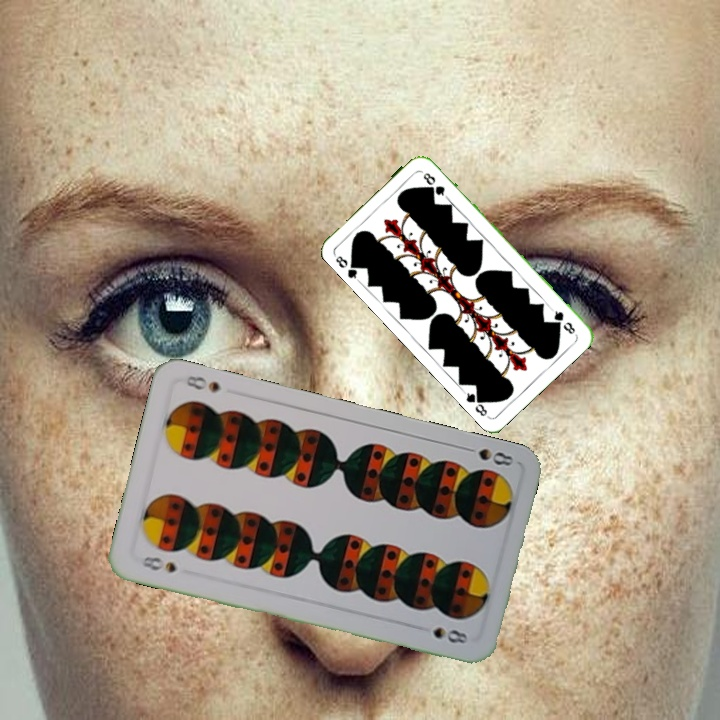G8: (330, 250, 363, 283), (547, 304, 578, 337)
S8: (459, 442, 516, 469), (136, 552, 179, 576)
